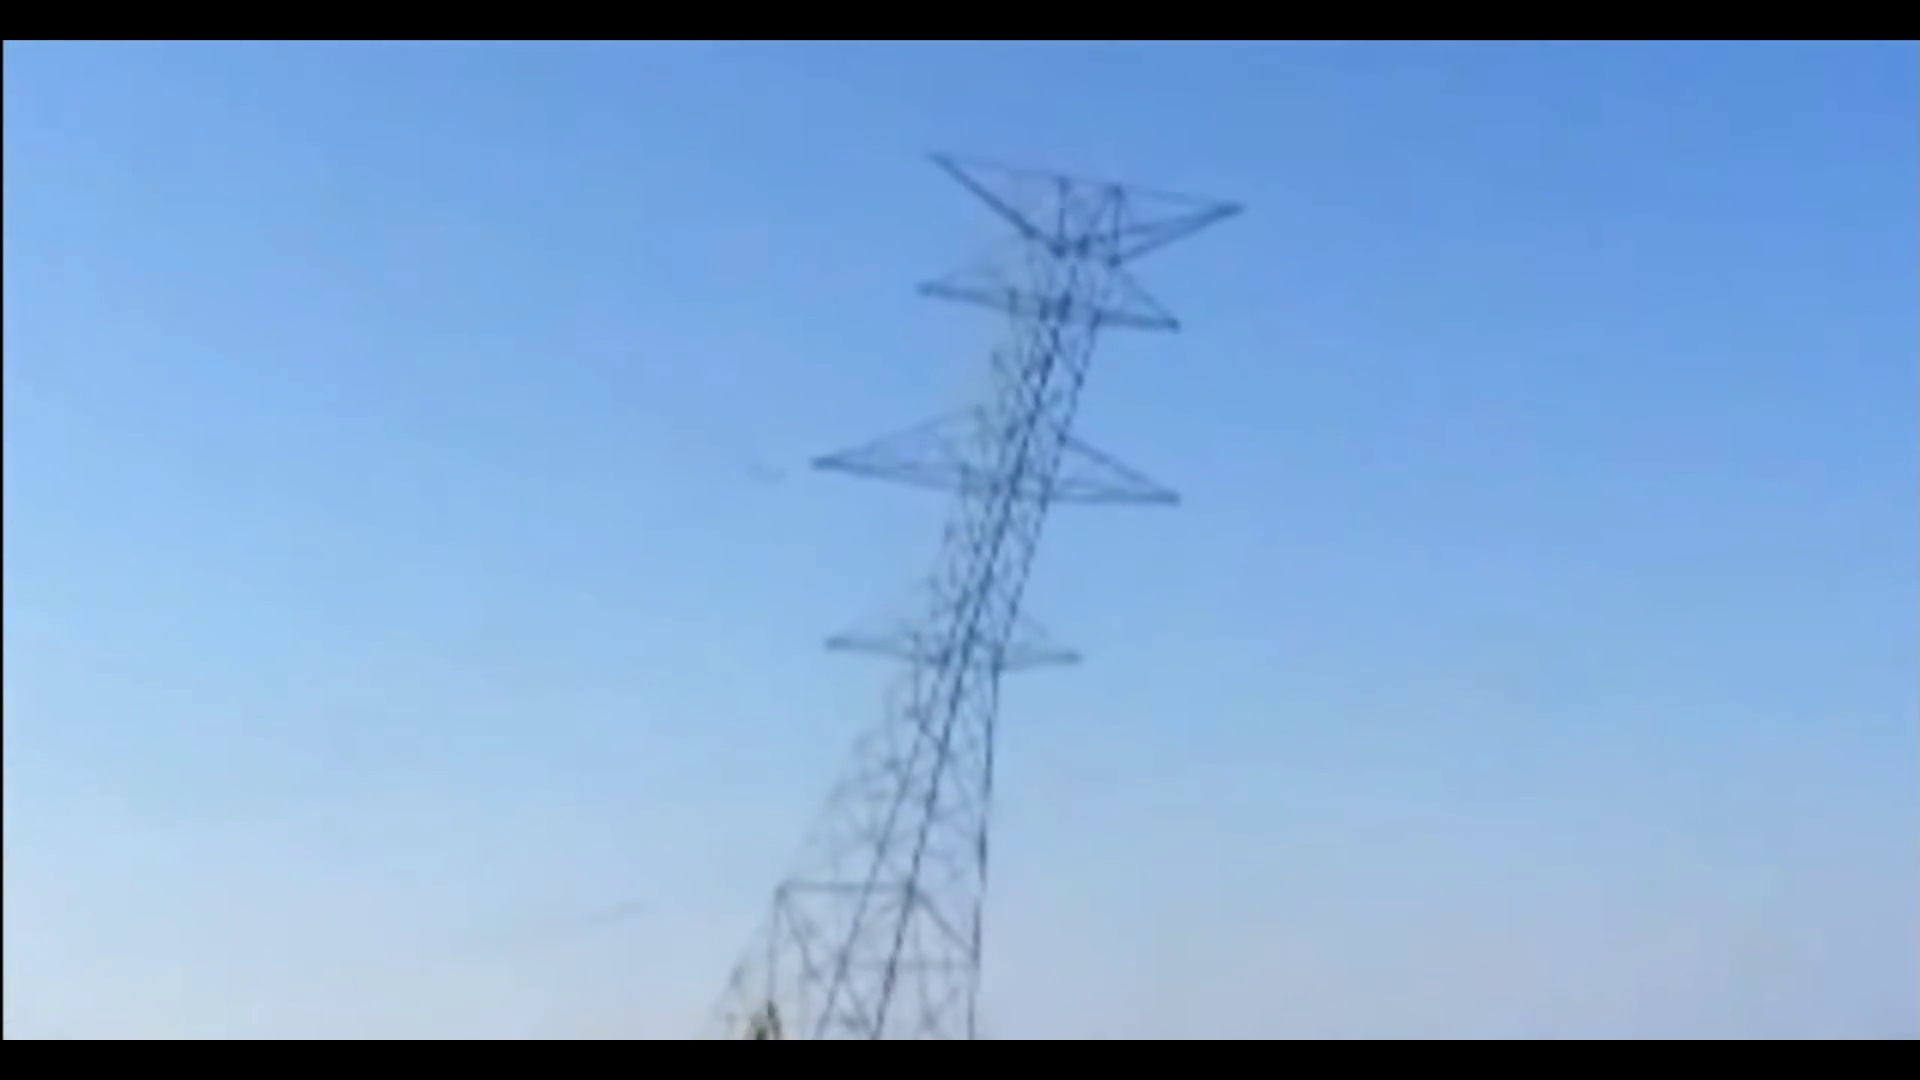tower_up: (719, 80, 1215, 1036)
